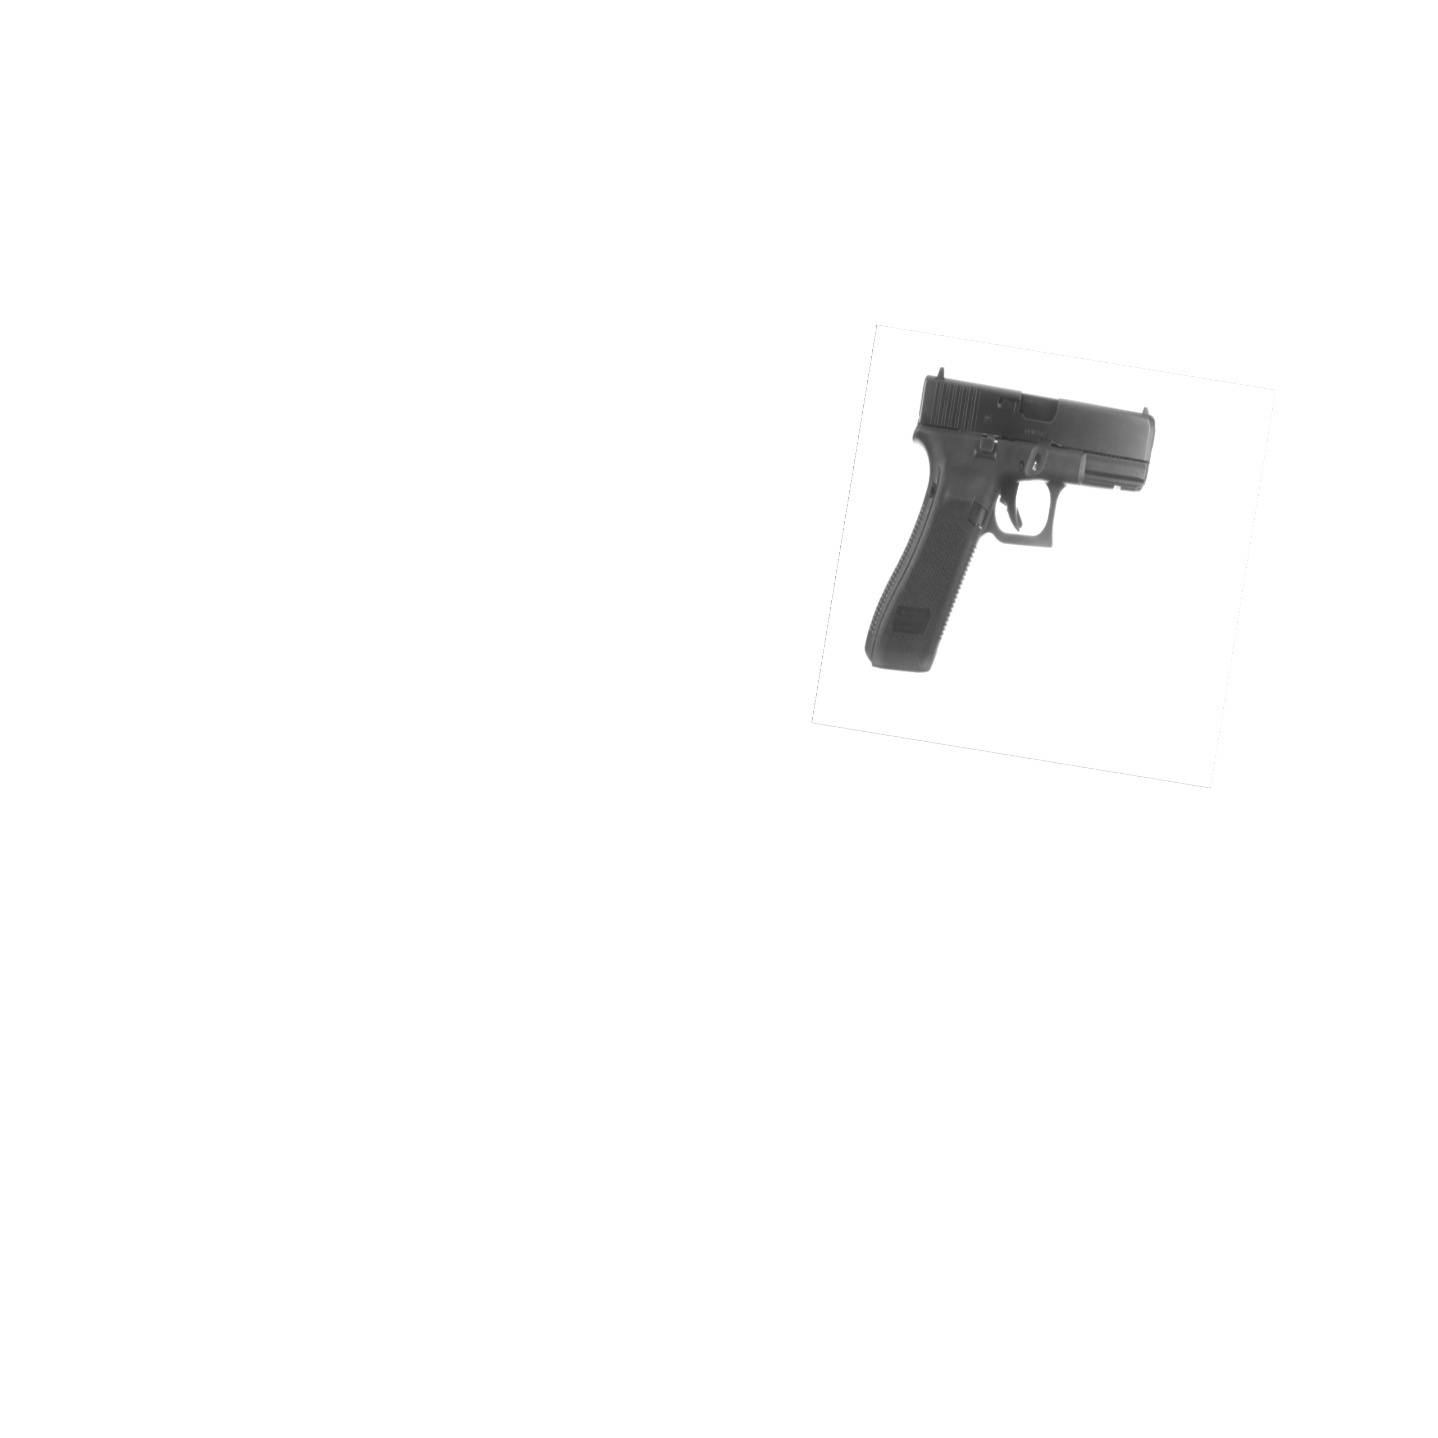gun: (863, 369, 1154, 673)
